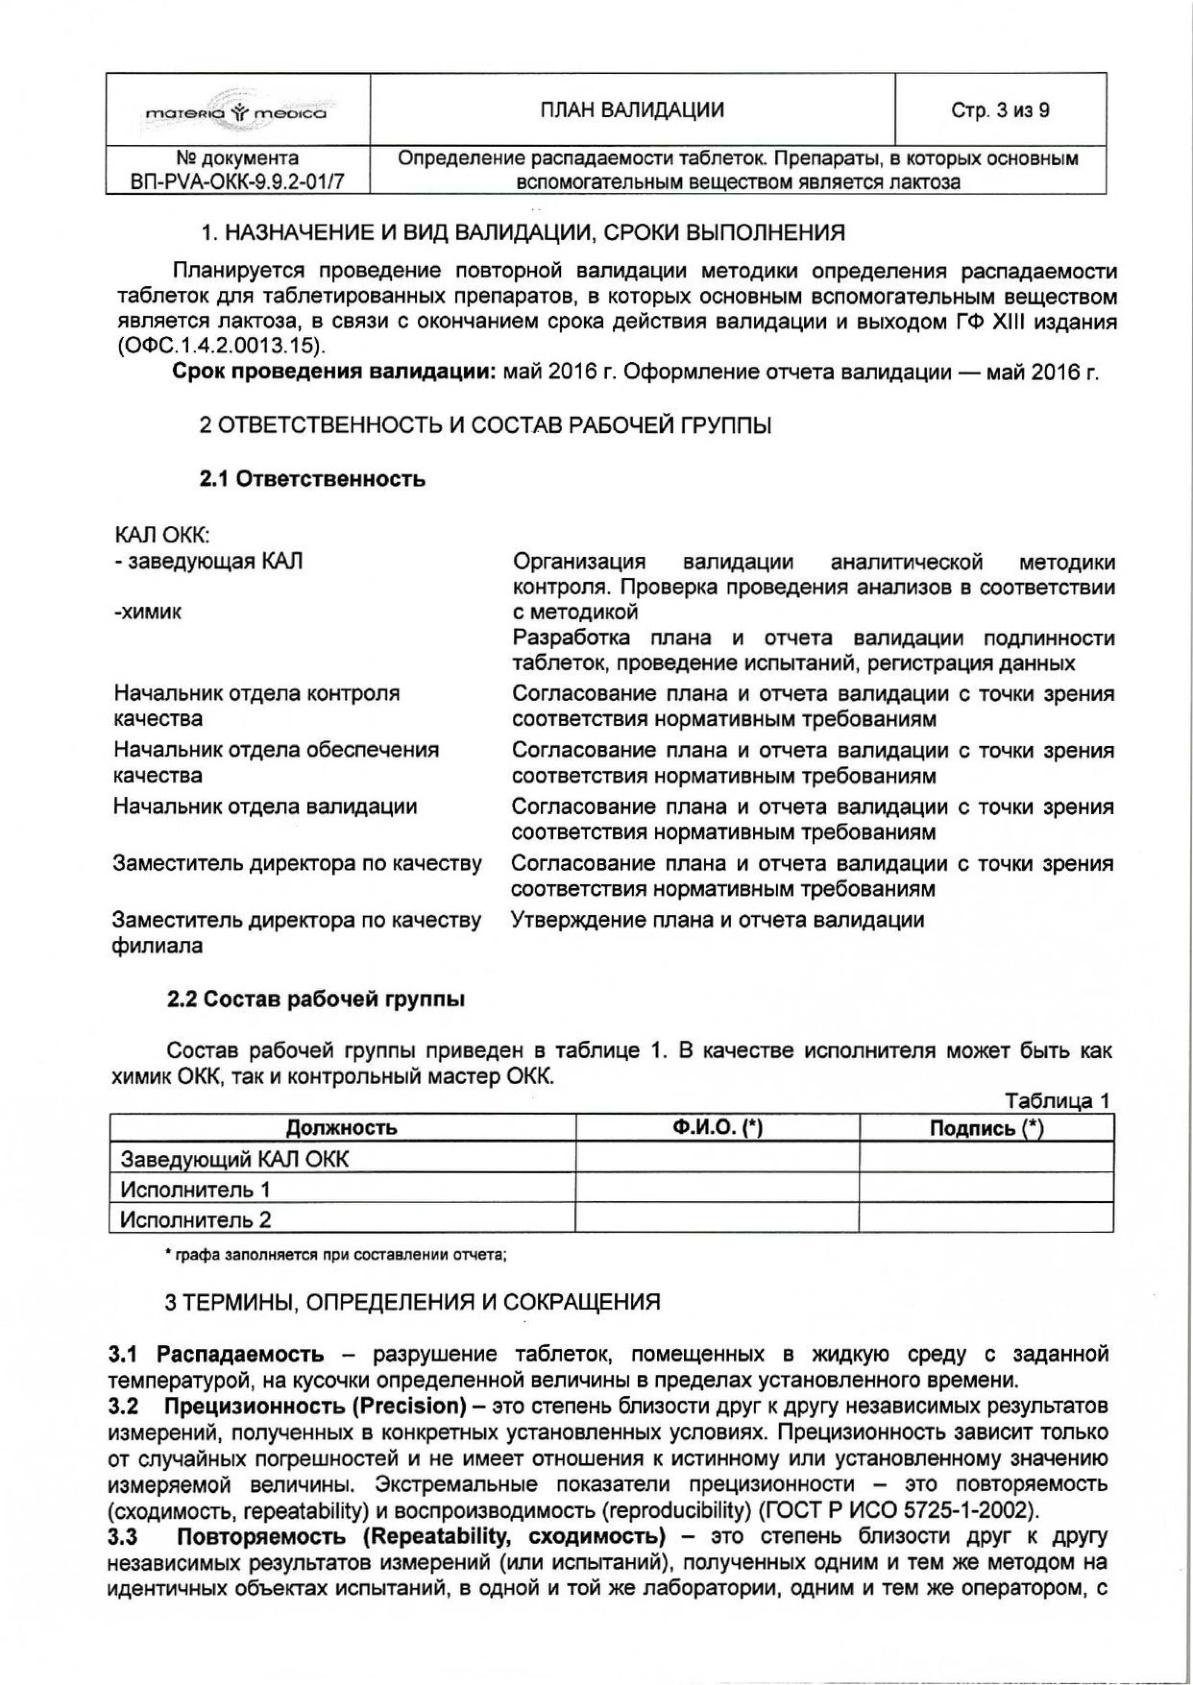full_lined: (108, 1112, 1116, 1234)
merged_cells: (105, 72, 1108, 196)
nolines: (106, 516, 1125, 961)
